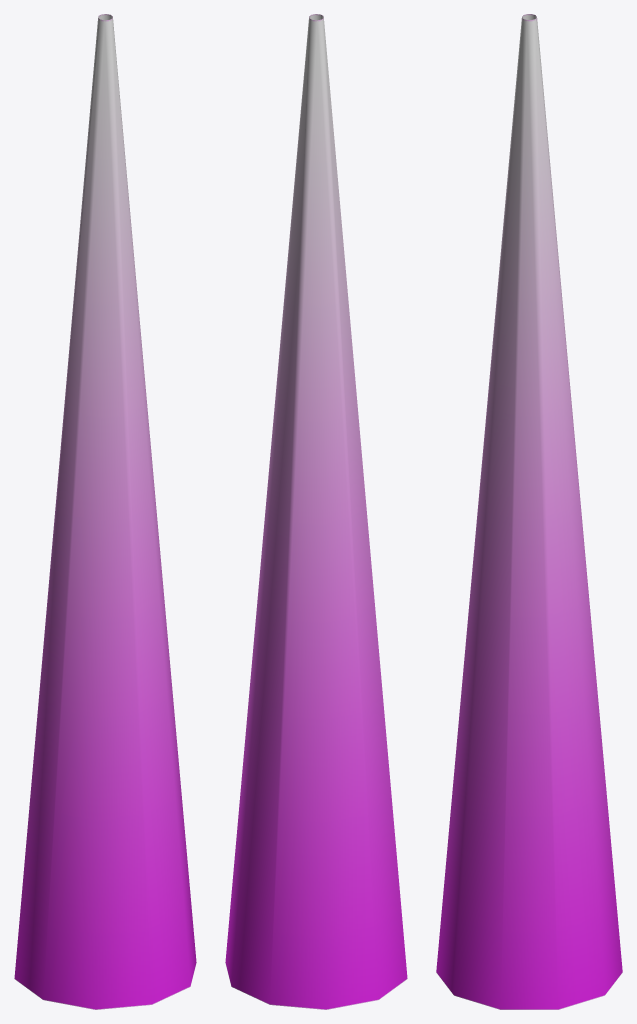
Rendered from LightCone_Piink.fbx.
The picture shows the model from 3 angles, left to right: view 1: azimuth 30°, elevation 25°; view 2: azimuth 150°, elevation 25°; view 3: azimuth 270°, elevation 25°; orthographic projection.
Visible parts, largest first — view 1: SM_Light_Cone.001; view 2: SM_Light_Cone.001; view 3: SM_Light_Cone.001.
Boxes of the visible parts, x1,y1,x2,y2 form: SM_Light_Cone.001: (14, 14, 196, 1009); SM_Light_Cone.001: (225, 14, 407, 1009); SM_Light_Cone.001: (436, 14, 622, 1009).
Size of the model in its own units: 330 by 1960 by 347.
